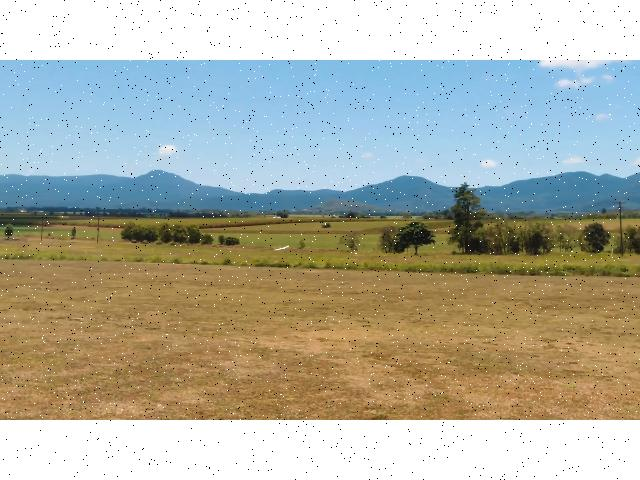Anti-Drone: (268, 239, 292, 257)
